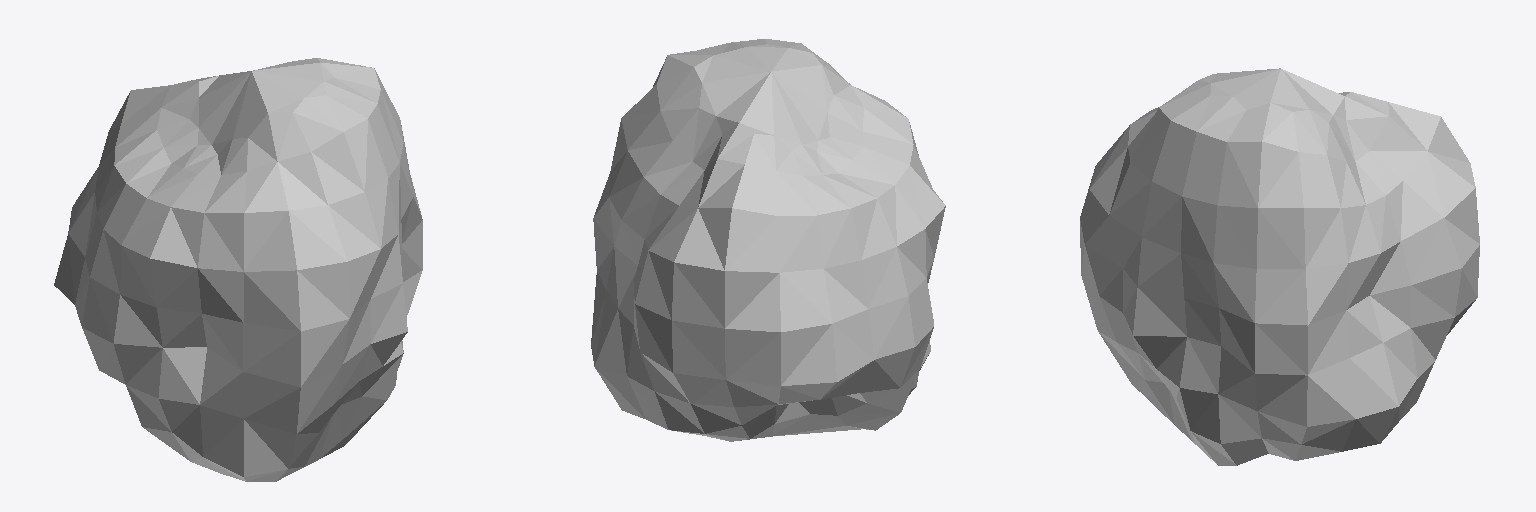
The model's file is stone1.obj.
3 views of the same model, side by side, from view 1: azimuth 30°, elevation 25°; view 2: azimuth 150°, elevation 25°; view 3: azimuth 270°, elevation 25° (orthographic).
Parts seen in each view (by area): view 1: Stone_Pack1_Stone_1; view 2: Stone_Pack1_Stone_1; view 3: Stone_Pack1_Stone_1.
Boxes of the visible parts, x1=… form: Stone_Pack1_Stone_1: x1=54, y1=58, x2=422, y2=481; Stone_Pack1_Stone_1: x1=591, y1=39, x2=945, y2=441; Stone_Pack1_Stone_1: x1=1080, y1=68, x2=1479, y2=465.
Bounding box in the file's own units: 1.41 × 1.55 × 1.52.